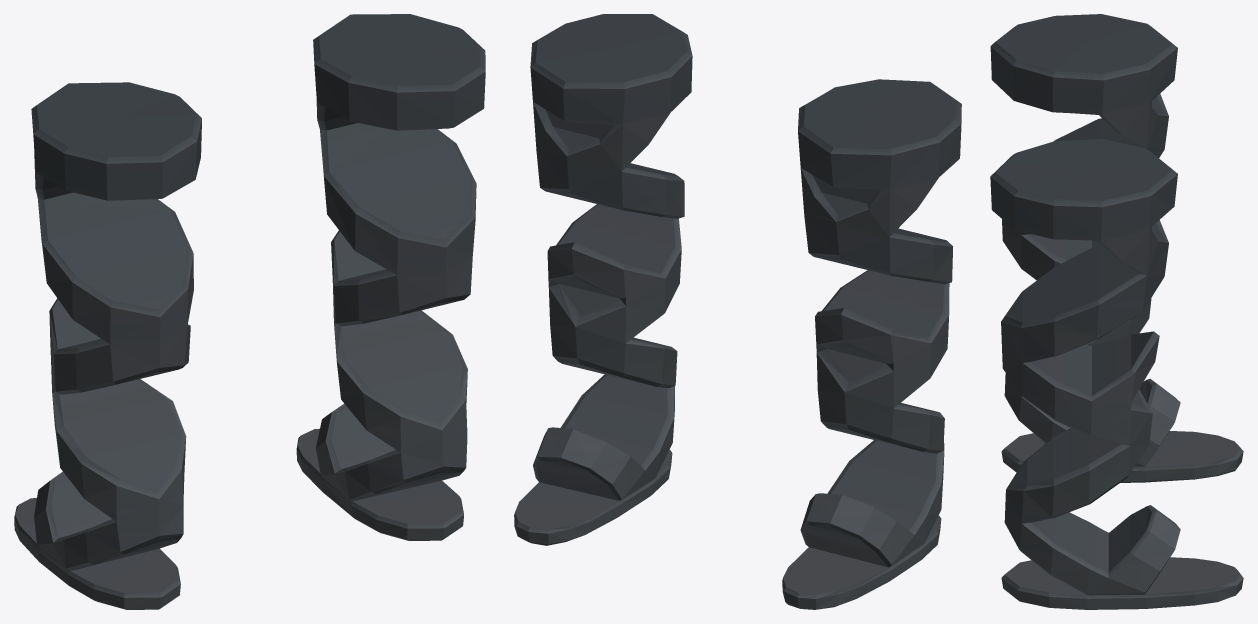
File: NPC_CivilianShoes.glb
3 views of the same model, side by side, from view 1: azimuth 30°, elevation 25°; view 2: azimuth 150°, elevation 25°; view 3: azimuth 270°, elevation 25° (orthographic). The views are drawn at different scales.
Parts seen in each view (by area): view 1: NPC_CivilianShoes; view 2: NPC_CivilianShoes; view 3: NPC_CivilianShoes.
Boxes of the visible parts, x1,y1,x2,y2 form: NPC_CivilianShoes: (14,14,485,609); NPC_CivilianShoes: (514,14,961,609); NPC_CivilianShoes: (990,14,1243,609).
Bounding box in the file's own units: 2.86 × 2.93 × 1.6.
Materials: 1 (1 with a texture image).
